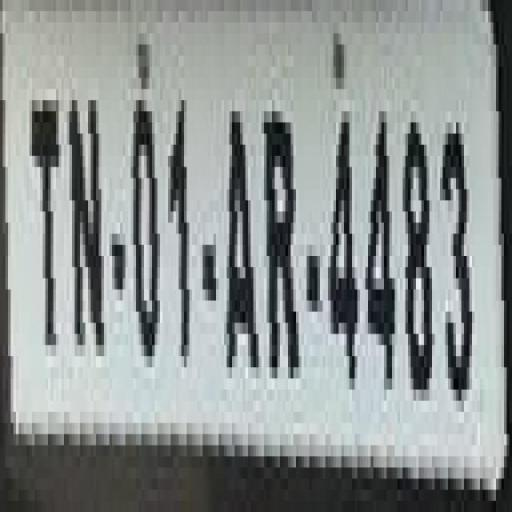number plate: (18, 0, 511, 490)
